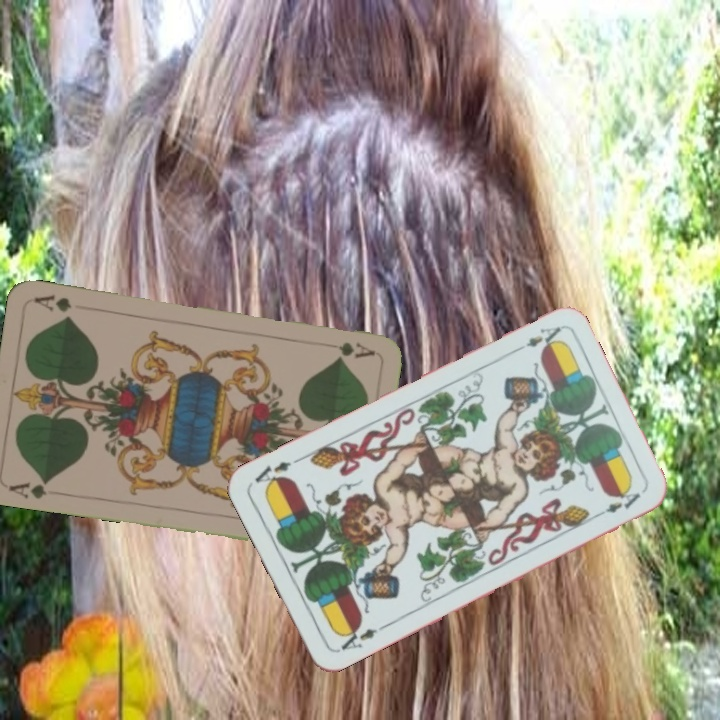EA: (508, 322, 565, 356), (333, 621, 388, 655)
GA: (4, 475, 52, 501), (334, 338, 377, 361)
